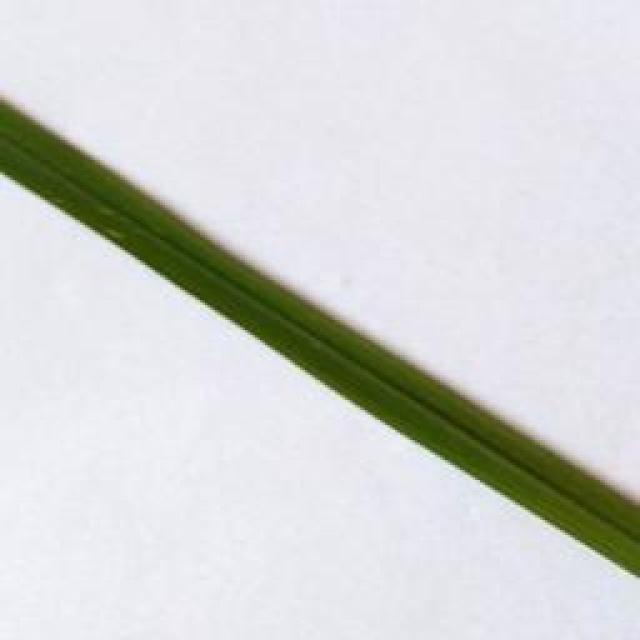Bacterial_Blight: (93, 202, 136, 264)
